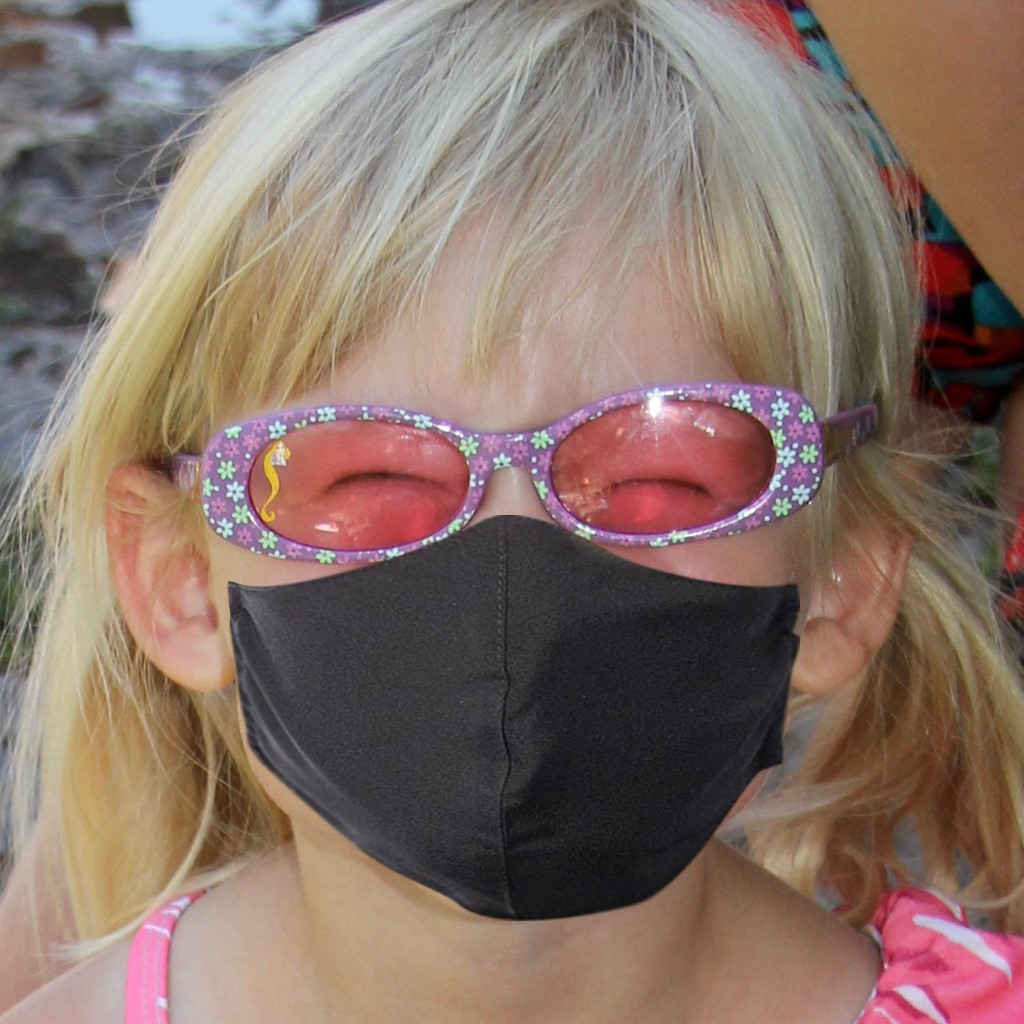con_mascara: (217, 146, 813, 920)
